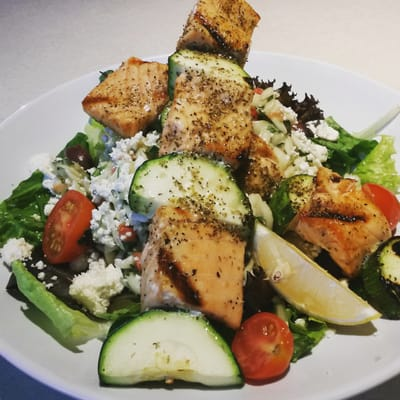curry: (9, 256, 110, 353)
